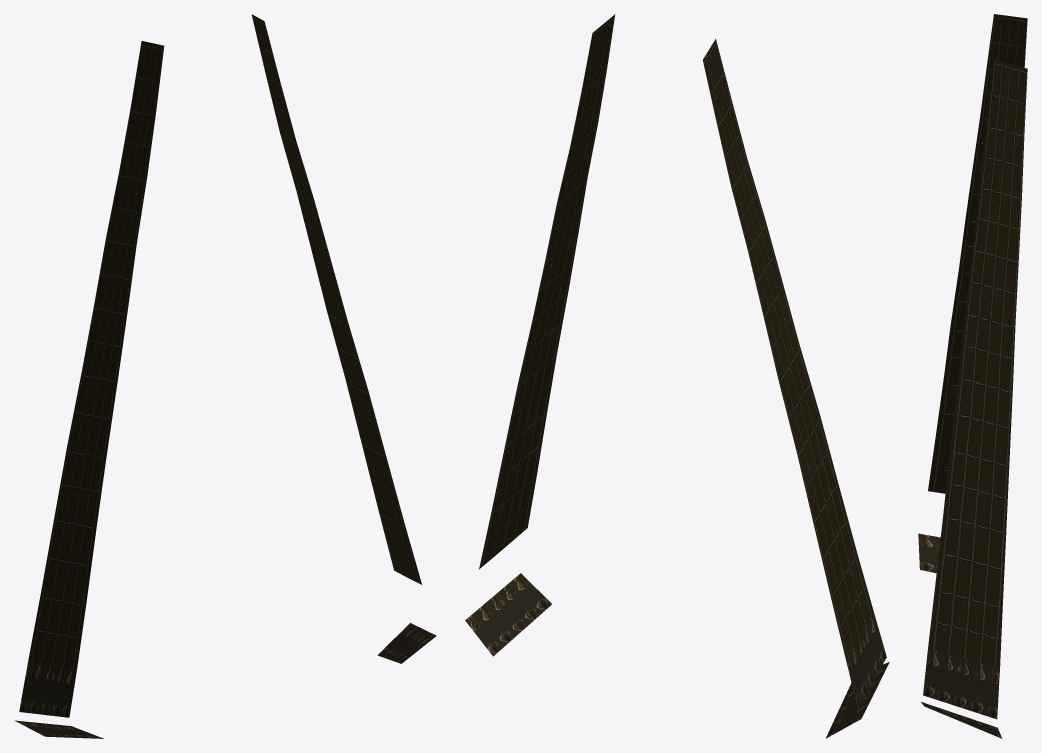
File: merchantL2-rigging_0.fbx
The picture shows the model from 3 angles, left to right: view 1: azimuth 30°, elevation 25°; view 2: azimuth 150°, elevation 25°; view 3: azimuth 270°, elevation 25°; orthographic projection. The views are drawn at different scales.
Parts seen in each view (by area): view 1: rigging_2_A3, polySurface3, pullys_16, riggingmount_pulleys6, riggingmount_pulleys9; view 2: rigging_2_A3, polySurface3, riggingmount_pulleys6, pullys_16, riggingmount_pulleys9; view 3: polySurface3, rigging_2_A3, pullys_8, riggingmount_pulleys9, riggingmount_pulleys6.
Boxes of the visible parts, left/top/right/bottom form: rigging_2_A3: left=28, top=41, right=164, bottom=669; polySurface3: left=251, top=14, right=421, bottom=584; pullys_16: left=19, top=660, right=76, bottom=717; riggingmount_pulleys6: left=377, top=623, right=436, bottom=663; riggingmount_pulleys9: left=14, top=720, right=103, bottom=738; rigging_2_A3: left=703, top=39, right=873, bottom=658; polySurface3: left=479, top=14, right=615, bottom=569; riggingmount_pulleys6: left=465, top=573, right=551, bottom=656; pullys_16: left=846, top=613, right=886, bottom=708; riggingmount_pulleys9: left=825, top=662, right=889, bottom=738; polySurface3: left=928, top=60, right=1027, bottom=668; rigging_2_A3: left=928, top=14, right=1027, bottom=493; pullys_8: left=923, top=649, right=999, bottom=719; riggingmount_pulleys9: left=918, top=533, right=940, bottom=573; riggingmount_pulleys6: left=921, top=702, right=1002, bottom=738.
Size of the model in its own units: 7380 by 11881 by 1881.
1 material, 1 textured.
